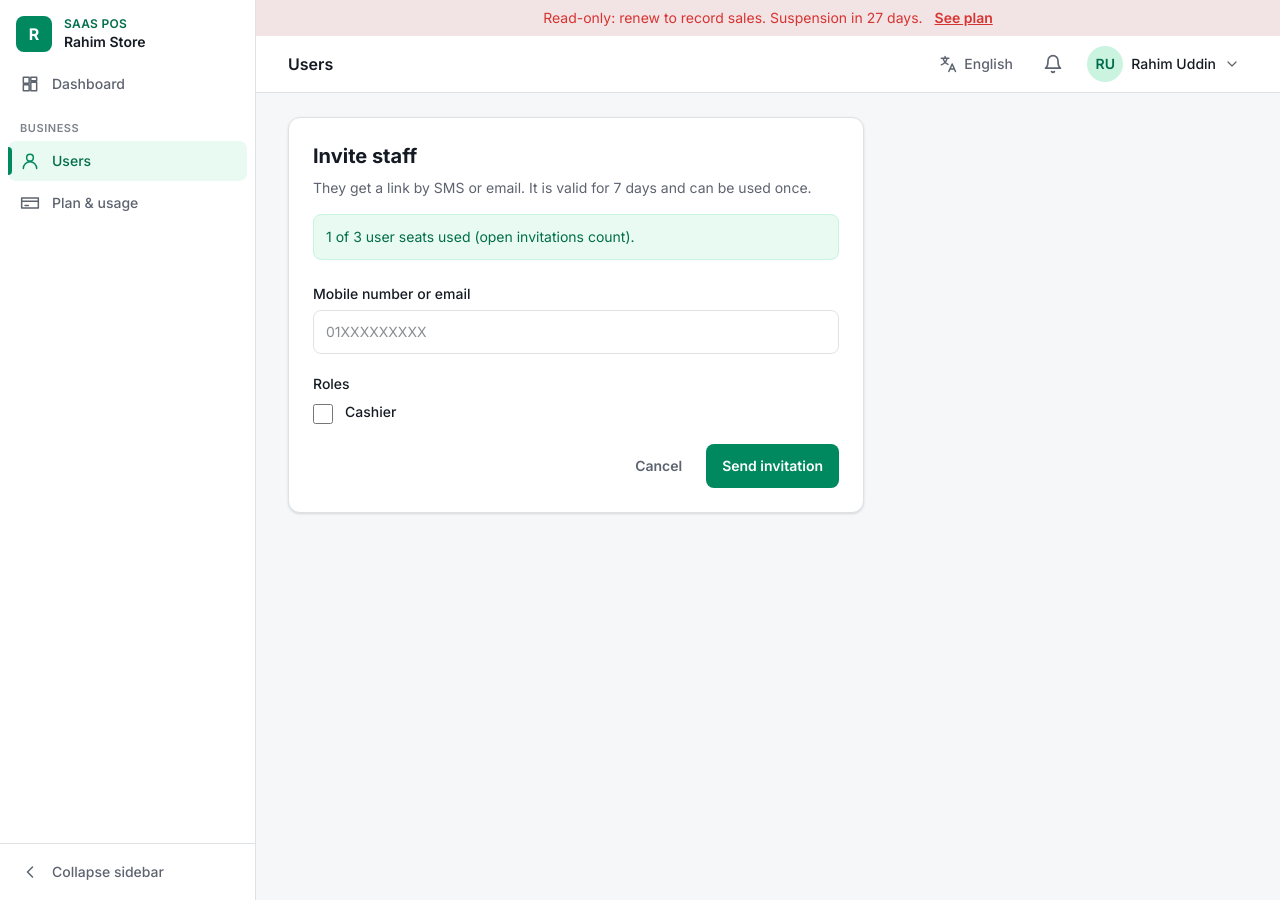
Test case: plan and subscription state › explains read-only errors from the API
The image size is (1280, 900).
In the field labelled "Mobile number or email": (576, 332) [313,310,839,354], type "01711000202"
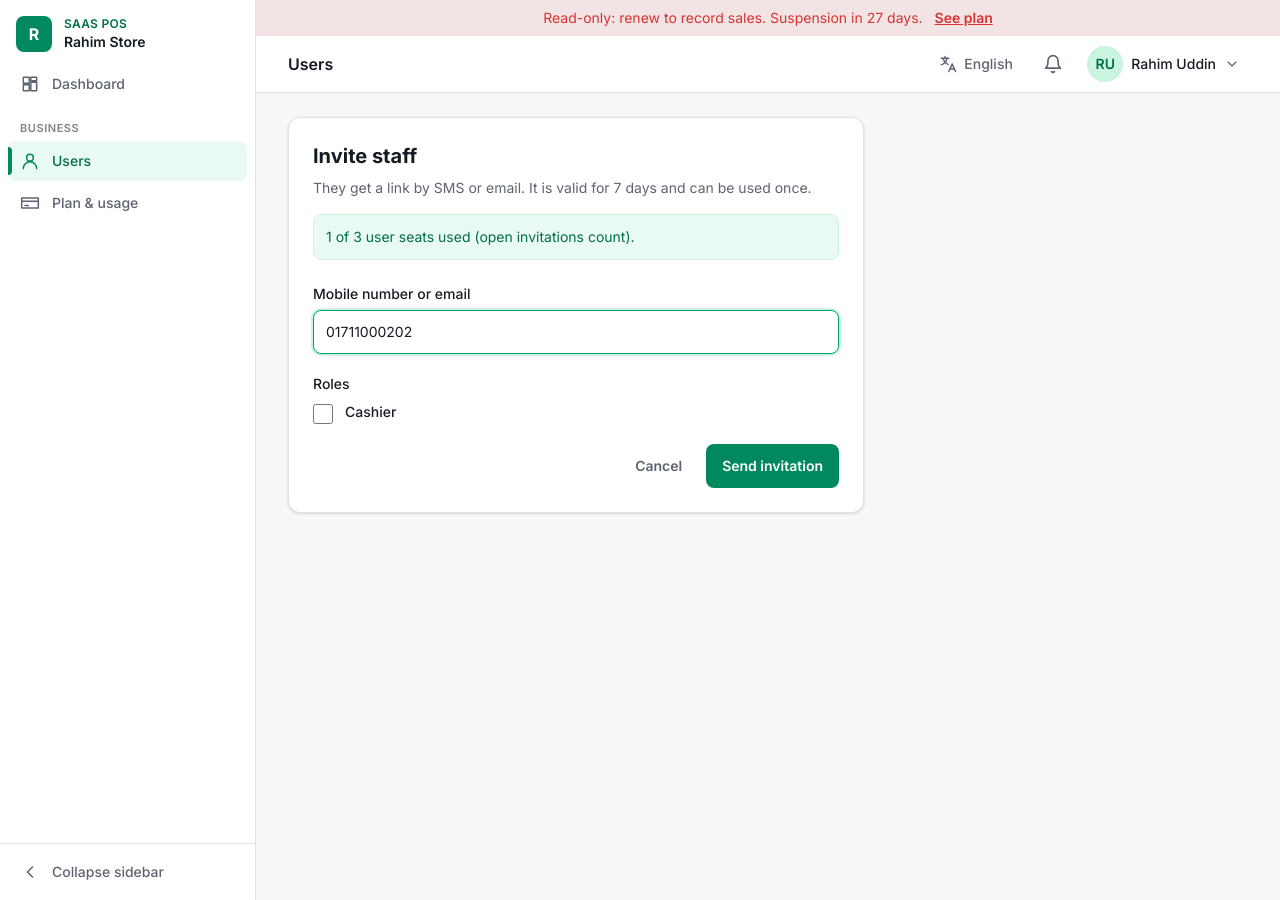
Click the checkbox labelled "Cashier": (323, 414) [313,404,333,424]
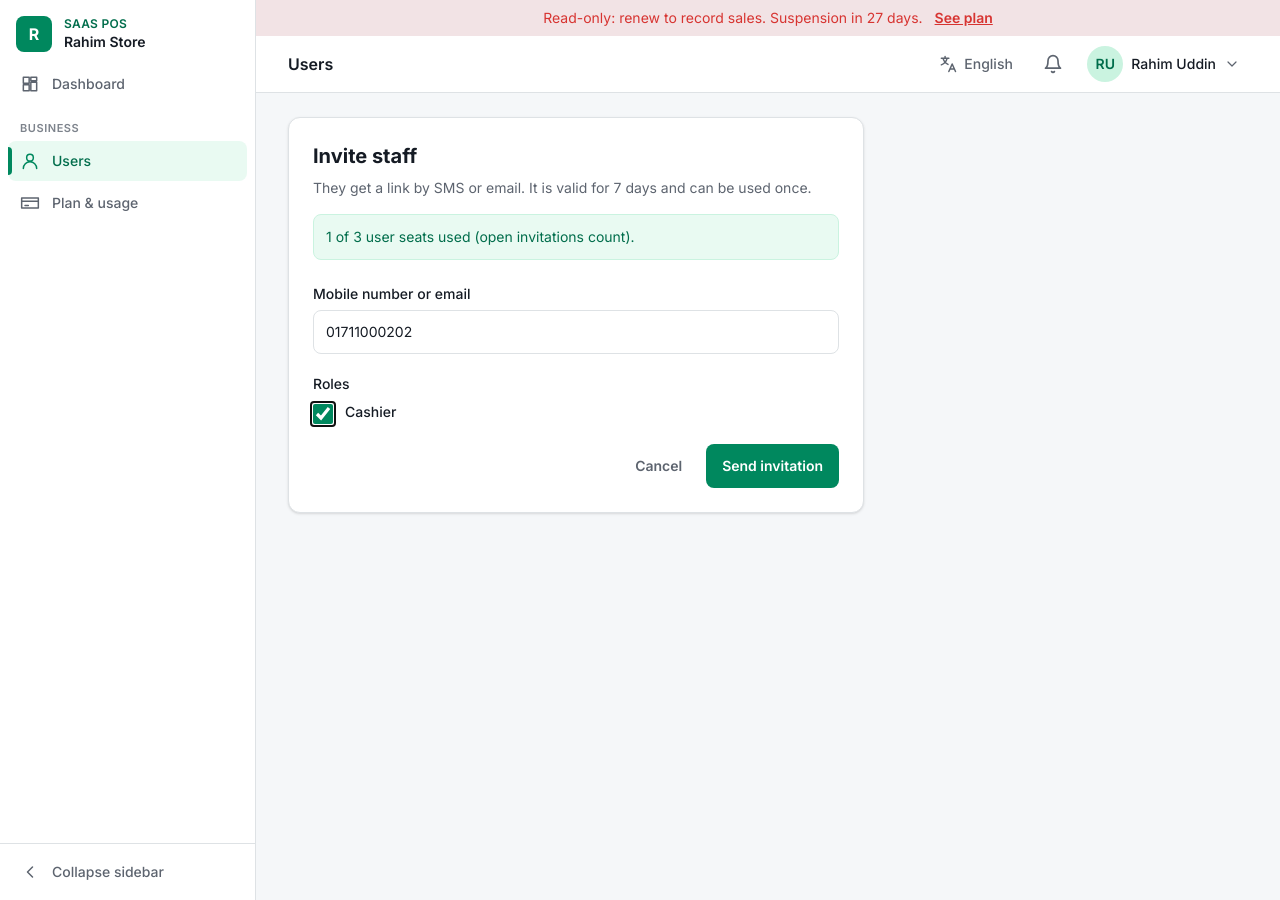
Click the button "Send invitation": (773, 466) [706,444,839,488]
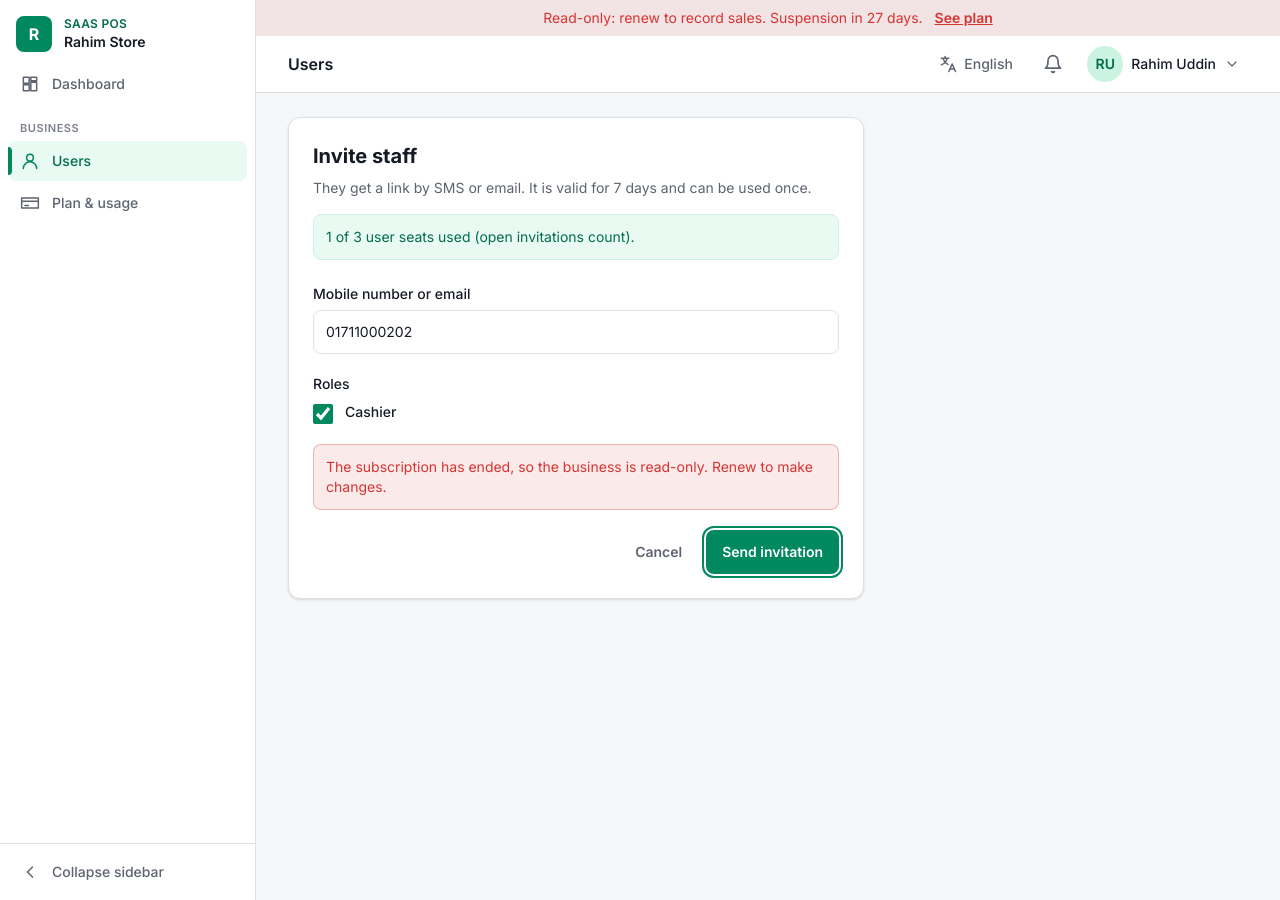
Check: the text "The subscription has ended, so the business is read-only. Renew to make changes." is shown, box [313,444,839,510]
